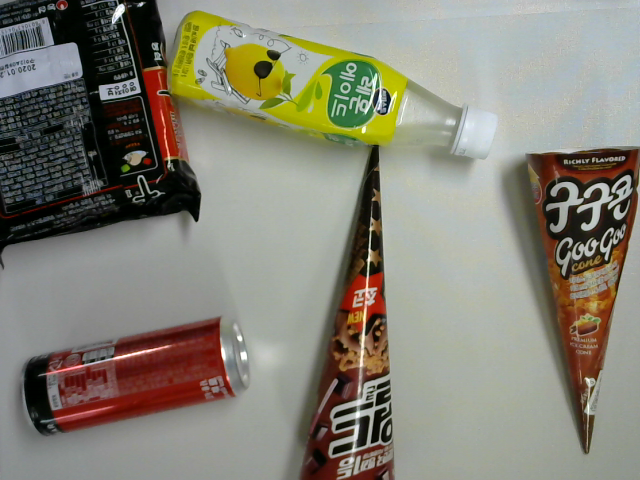Coca_Cola_Zero_Can_250ml: (19, 308, 253, 438)
GooGoo_Cone_CVS: (524, 144, 640, 459)
Sinramen_Black: (1, 1, 207, 269)
Sunkist_Lemonaid_Pet: (170, 4, 497, 160)
World_Cone_Choco: (293, 146, 397, 480)
